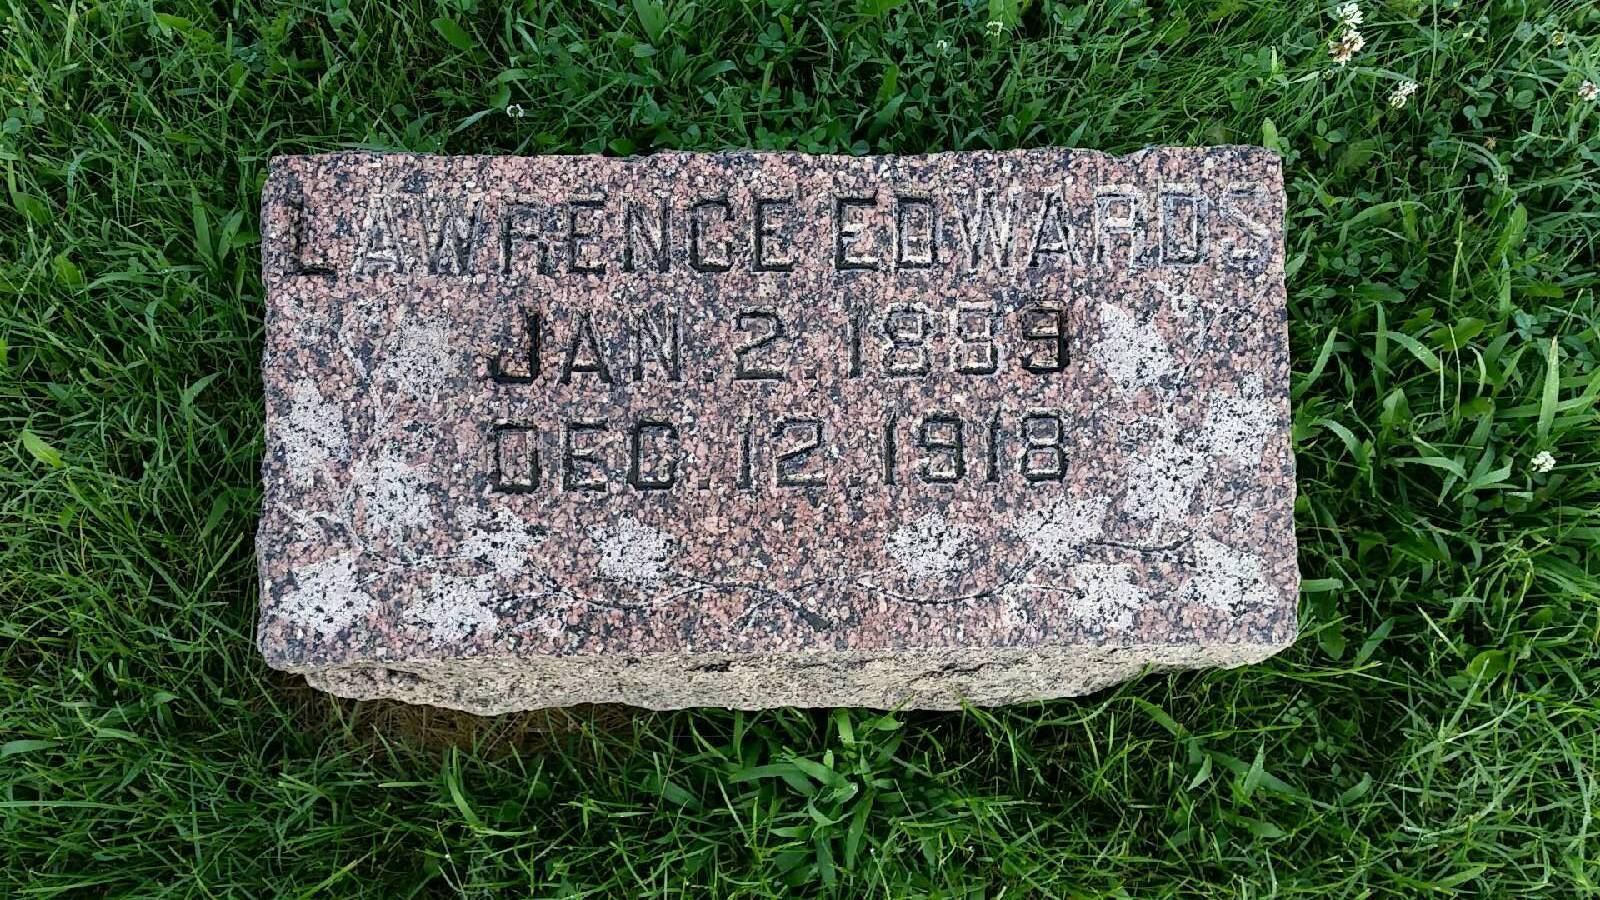flat: (248, 137, 1316, 730)
